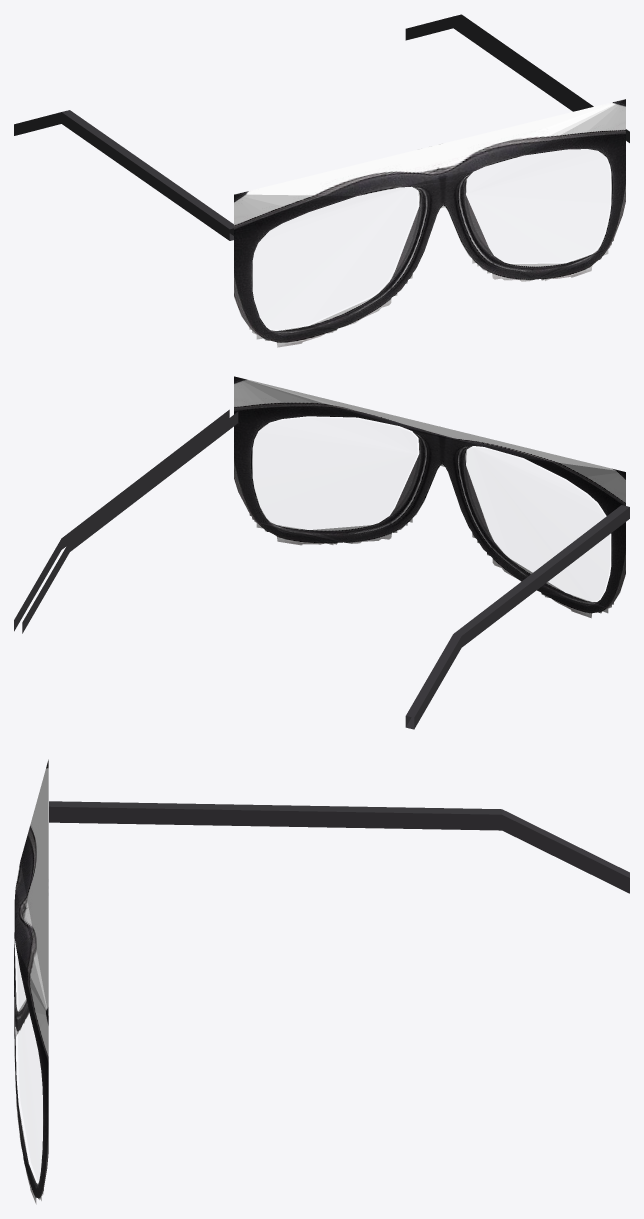
Rendered from gothamstyle-matte-237_matte-black.glb.
The picture shows the model from 3 angles, top to bottom: view 1: azimuth 30°, elevation 25°; view 2: azimuth 150°, elevation 25°; view 3: azimuth 270°, elevation 25°; orthographic projection. The views are drawn at different scales.
Parts seen in each view (by area): view 1: frame_front, temple_viewer_left, temple_viewer_right; view 2: frame_front, temple_viewer_left, temple_viewer_right; view 3: temple_viewer_left, frame_front.
Boxes of the visible parts, left/top/right/bottom form: frame_front: left=234, top=99, right=625, bottom=347; temple_viewer_left: left=14, top=110, right=233, bottom=240; temple_viewer_right: left=405, top=14, right=629, bottom=142; frame_front: left=234, top=376, right=625, bottom=618; temple_viewer_left: left=405, top=505, right=629, bottom=729; temple_viewer_right: left=14, top=409, right=238, bottom=633; temple_viewer_left: left=49, top=801, right=629, bottom=893; frame_front: left=14, top=759, right=48, bottom=1204.
Size of the model in its own units: 0.1424 by 0.0541 by 0.141.
Materials: 3 (2 with a texture image).
